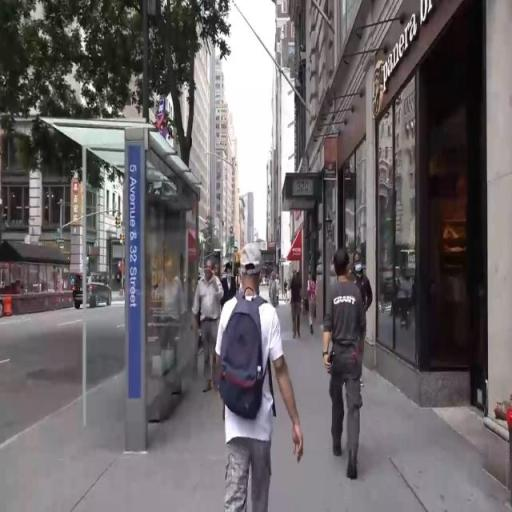person: (221, 248, 304, 493), (327, 253, 361, 468), (197, 249, 221, 392), (354, 249, 375, 387), (289, 266, 304, 350), (305, 264, 320, 339), (220, 252, 235, 301), (271, 270, 278, 313), (283, 275, 290, 306)
